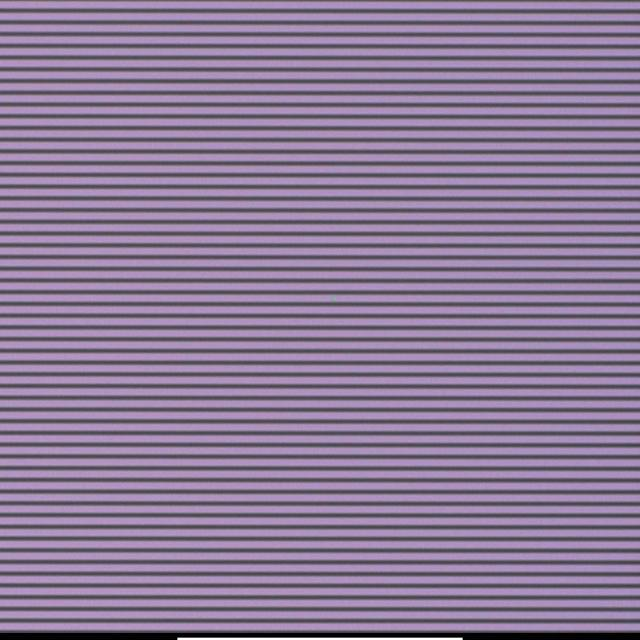nonvisual: (327, 289, 341, 307)
